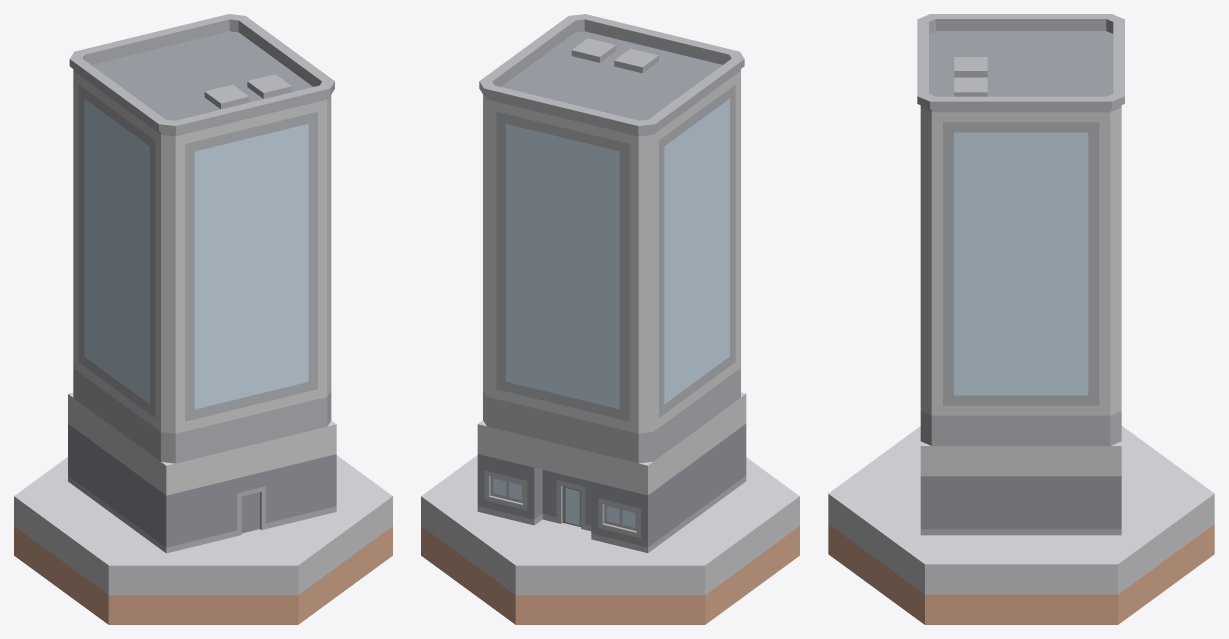
File: skyscraper_5_high.fbx
3 views of the same model, side by side, from view 1: azimuth 30°, elevation 25°; view 2: azimuth 150°, elevation 25°; view 3: azimuth 270°, elevation 25° (orthographic). The views are drawn at different scales.
Parts seen in each view (by area): view 1: skyscraperA, pavement_high.007; view 2: skyscraperA, pavement_high.007; view 3: skyscraperA, pavement_high.007.
Boxes of the visible parts, bbox=[...] form: skyscraperA: bbox=[68, 14, 336, 553]; pavement_high.007: bbox=[14, 455, 392, 624]; skyscraperA: bbox=[477, 14, 746, 552]; pavement_high.007: bbox=[421, 455, 799, 624]; skyscraperA: bbox=[917, 14, 1124, 535]; pavement_high.007: bbox=[828, 426, 1214, 624].
Size of the model in its own units: 100 by 163 by 115.
